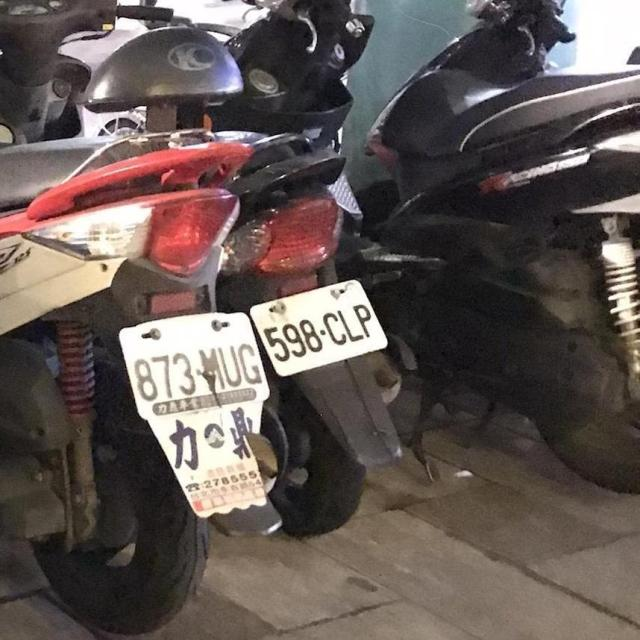W: (116, 310, 270, 426), (250, 278, 391, 377)
